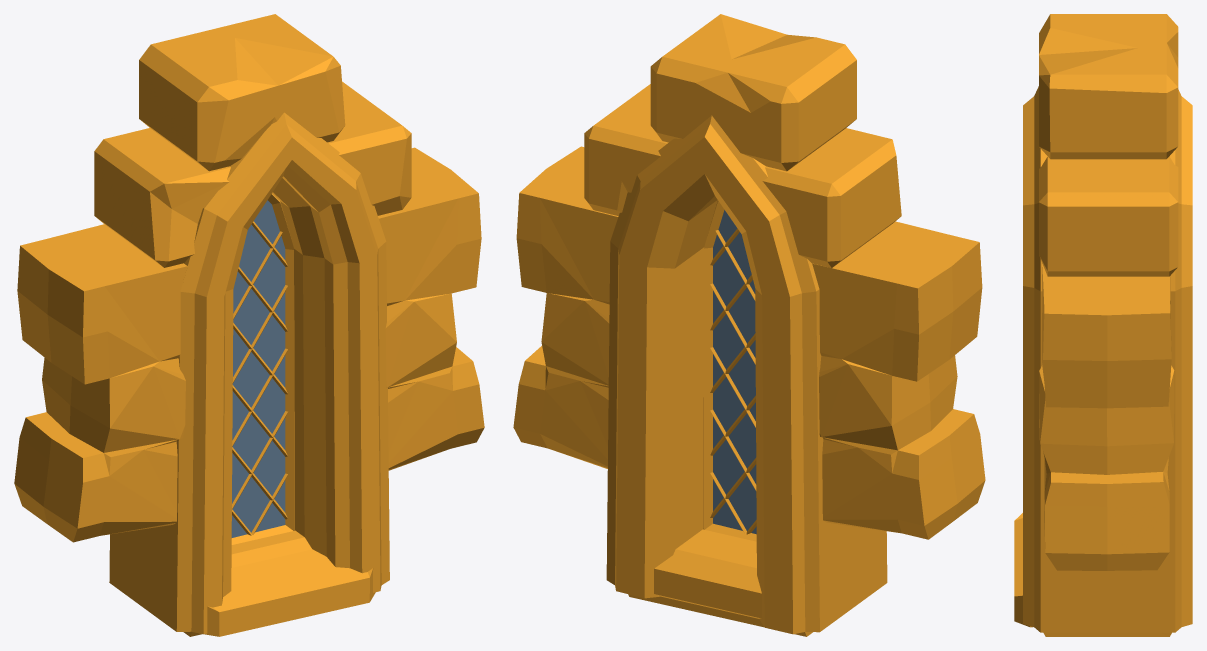
Rendered from SM_Window_Stone_Small_A_Fantasy.fbx.
The picture shows the model from 3 angles, left to right: view 1: azimuth 30°, elevation 25°; view 2: azimuth 150°, elevation 25°; view 3: azimuth 270°, elevation 25°; orthographic projection.
Parts seen in each view (by area): view 1: SM_Window_Stone_Small_A_Fantasy; view 2: SM_Window_Stone_Small_A_Fantasy; view 3: SM_Window_Stone_Small_A_Fantasy.
Part boxes in pixels (x1=…): SM_Window_Stone_Small_A_Fantasy: x1=14, y1=14, x2=484, y2=636; SM_Window_Stone_Small_A_Fantasy: x1=513, y1=14, x2=985, y2=636; SM_Window_Stone_Small_A_Fantasy: x1=1014, y1=14, x2=1192, y2=636.
Size of the model in its own units: 1.74 by 2.19 by 0.6462.
